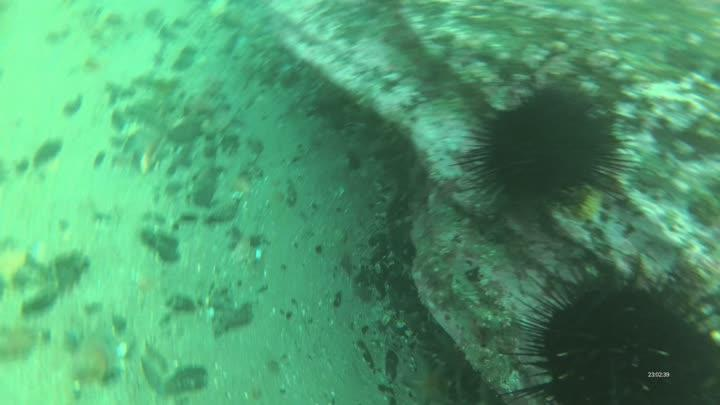urchin: (500, 249, 720, 403), (455, 77, 624, 219)
